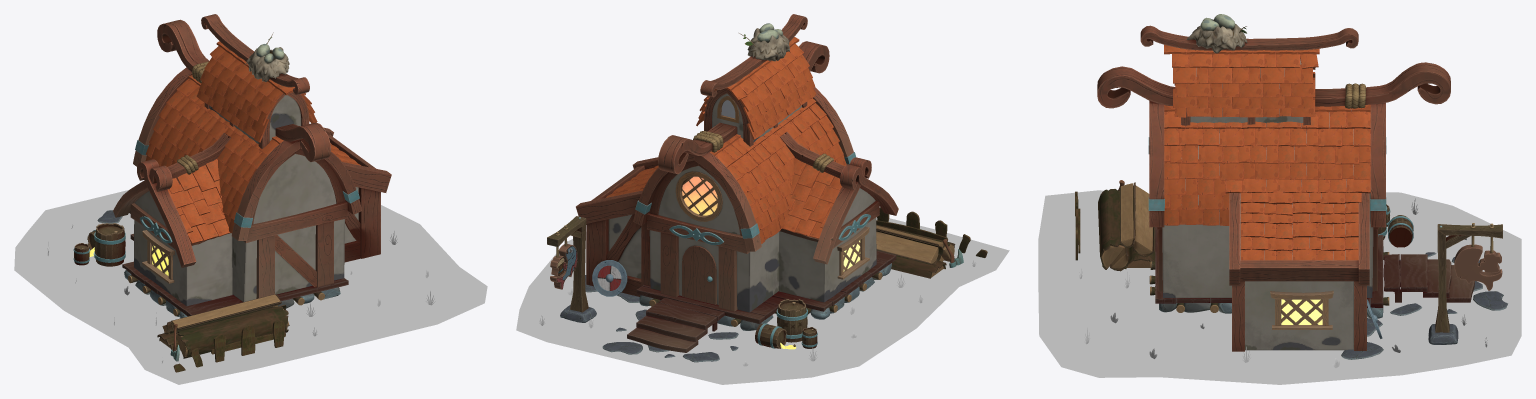
3 views of the same model, side by side, from view 1: azimuth 30°, elevation 25°; view 2: azimuth 150°, elevation 25°; view 3: azimuth 270°, elevation 25° (orthographic). The views are drawn at different scales.
Parts seen in each view (by area): view 1: LP2, LP1, LP7, LP4, LP20, LP11, LP5, LP19, LP3, LP21, LP34, LP15 (+15 smaller); view 2: LP2, LP7, LP5, LP4, LP20, LP1, LP3, LP19, LP11, LP15, LP8, LP21 (+18 smaller); view 3: LP2, LP20, LP19, LP7, LP21, LP4, LP5, LP1, LP10, LP3, LP29, LP15 (+12 smaller).
Boxes of the visible parts, left/top/right/bottom form: LP2: left=14, top=190, right=487, bottom=384; LP1: left=232, top=154, right=344, bottom=301; LP7: left=157, top=14, right=391, bottom=262; LP4: left=134, top=95, right=358, bottom=306; LP20: left=149, top=51, right=349, bottom=226; LP11: left=133, top=67, right=299, bottom=267; LP5: left=129, top=134, right=375, bottom=316; LP19: left=145, top=46, right=357, bottom=233; LP3: left=147, top=187, right=380, bottom=298; LP21: left=146, top=57, right=360, bottom=219; LP34: left=157, top=306, right=288, bottom=358; LP15: left=73, top=47, right=359, bottom=361; LP2: left=516, top=217, right=1009, bottom=384; LP7: left=576, top=14, right=844, bottom=304; LP5: left=591, top=96, right=896, bottom=352; LP4: left=608, top=93, right=876, bottom=302; LP20: left=612, top=51, right=846, bottom=237; LP1: left=649, top=166, right=779, bottom=312; LP3: left=586, top=219, right=864, bottom=331; LP19: left=606, top=44, right=839, bottom=243; LP11: left=694, top=87, right=898, bottom=251; LP15: left=556, top=28, right=963, bottom=349; LP8: left=636, top=160, right=886, bottom=341; LP21: left=622, top=62, right=844, bottom=239; LP2: left=1038, top=190, right=1521, bottom=384; LP20: left=1164, top=50, right=1370, bottom=260; LP19: left=1164, top=50, right=1370, bottom=260; LP7: left=1097, top=25, right=1450, bottom=285; LP21: left=1170, top=51, right=1370, bottom=260; LP4: left=1190, top=59, right=1353, bottom=350; LP5: left=1155, top=227, right=1474, bottom=329; LP1: left=1162, top=109, right=1373, bottom=297; LP10: left=1149, top=87, right=1385, bottom=227; LP3: left=1157, top=229, right=1401, bottom=351; LP29: left=1281, top=206, right=1502, bottom=324; LP15: left=1148, top=19, right=1493, bottom=338.
Size of the model in its own units: 0.1713 by 0.1138 by 0.1796.
